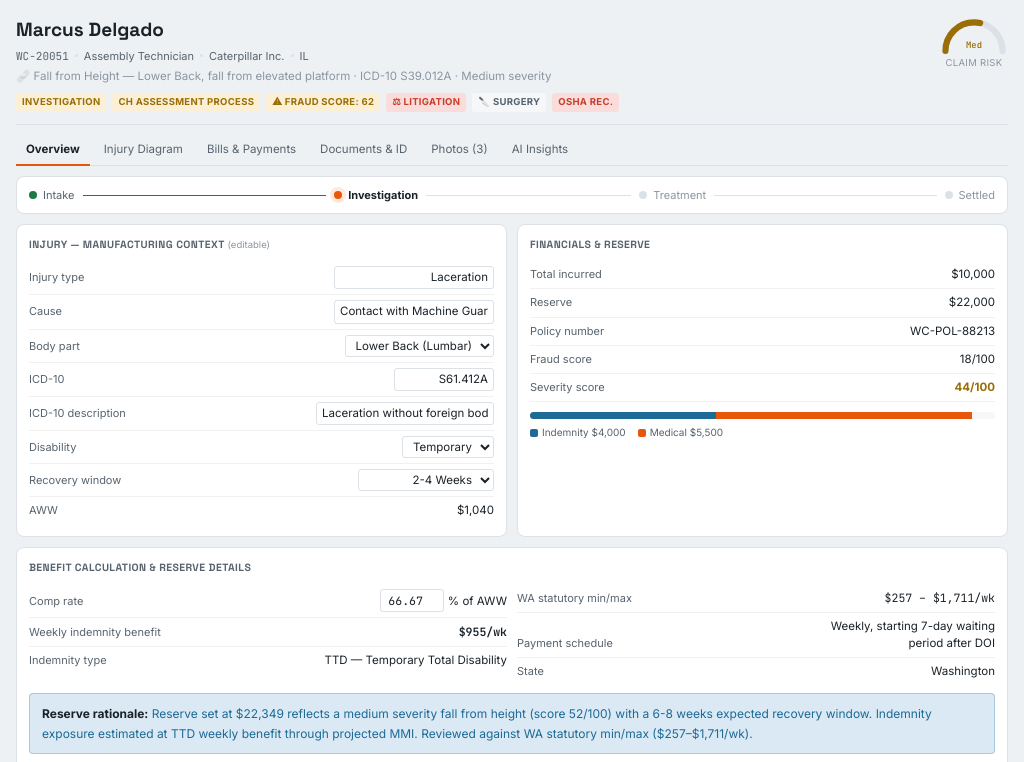
Test: the typed value is on screen before the server answers
The image size is (1024, 762).
Replace the text in the field with test id "edit-cause" with "Slip on Coolant" at (414, 312), box [334,300,494,324]
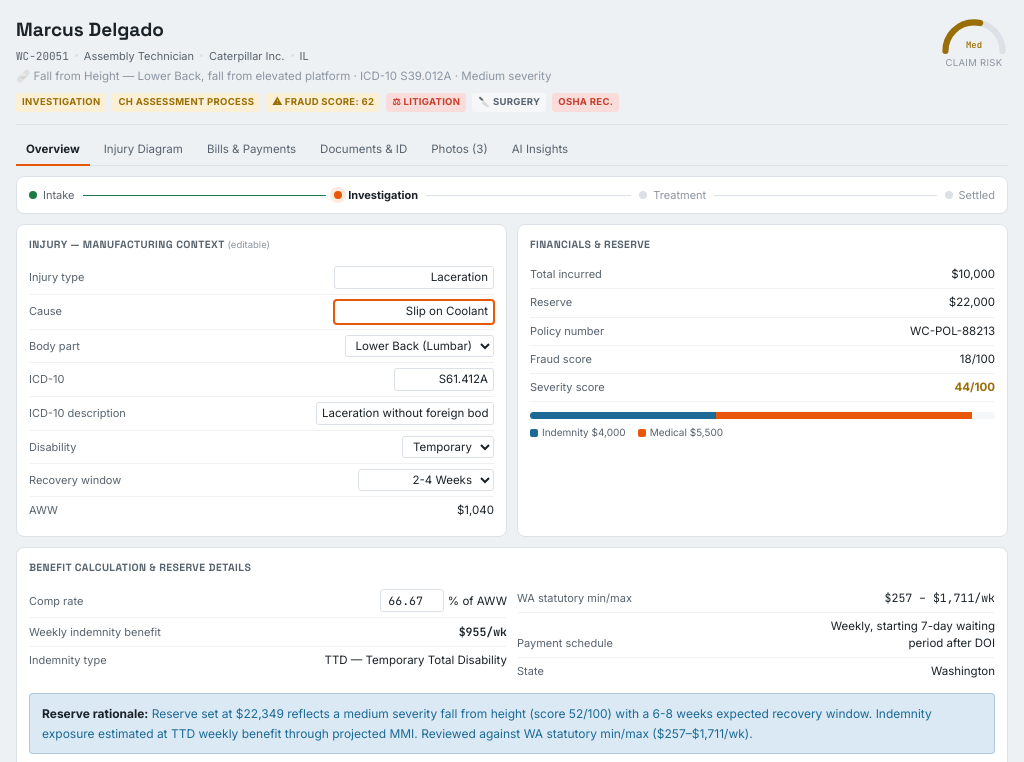
Press Tab
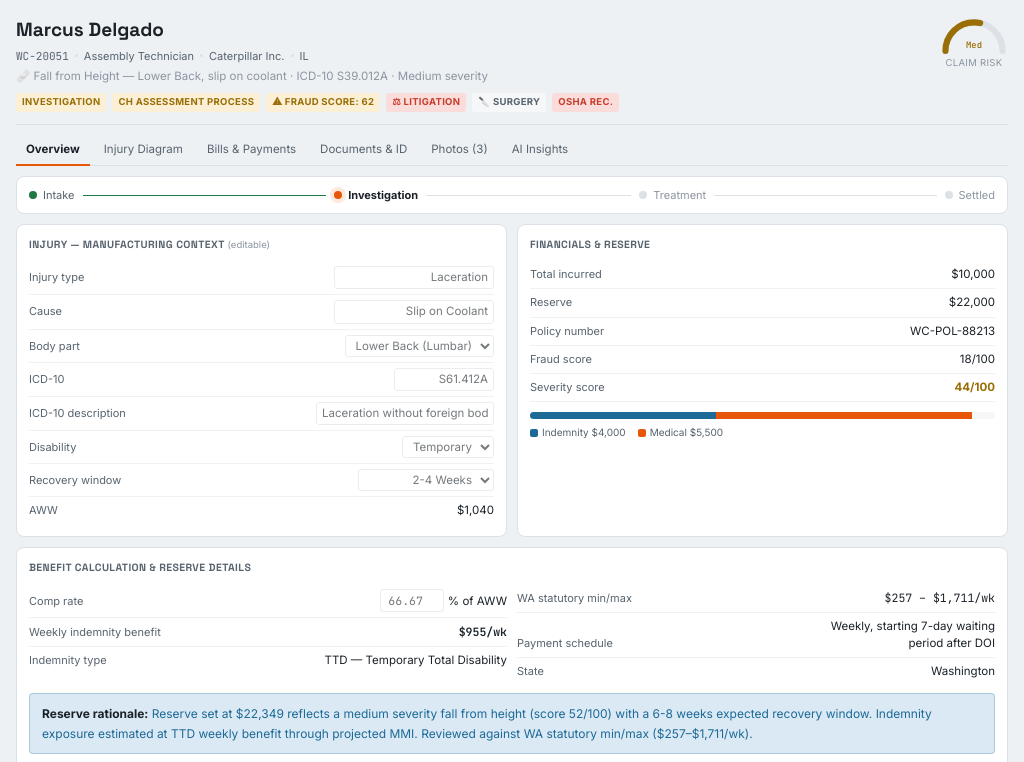
Result: the element with test id "case-header-injury" shows "slip on coolant" at [208,69,287,83]
